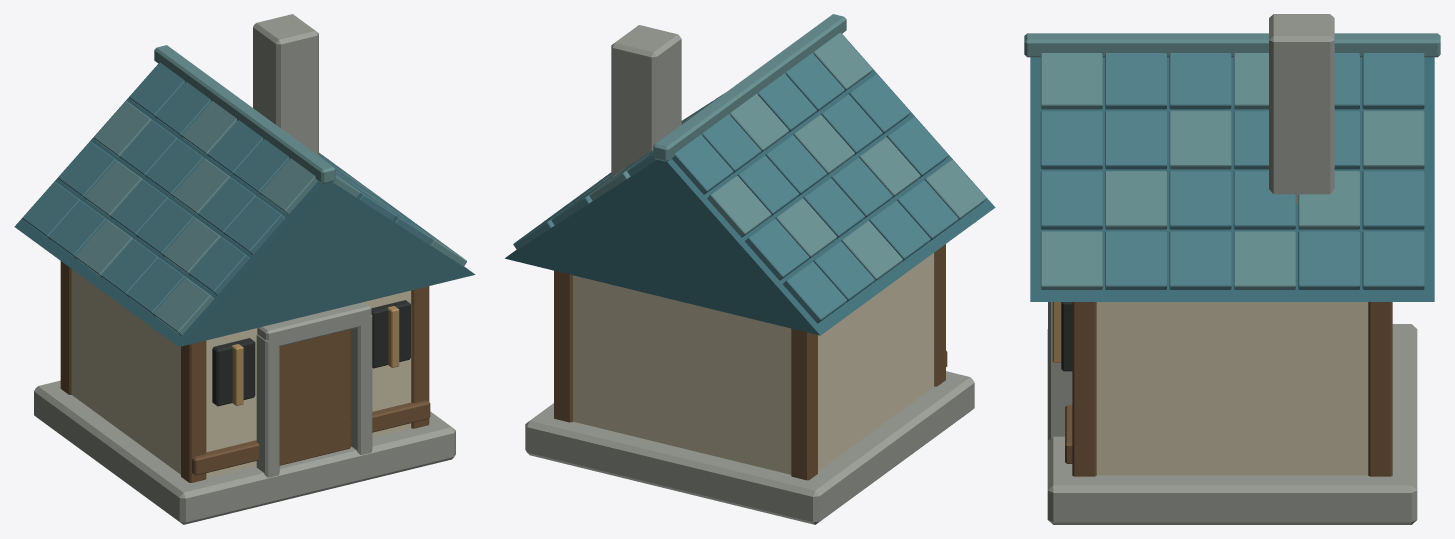
The model's file is house.glb.
The picture shows the model from 3 angles, left to right: view 1: azimuth 30°, elevation 25°; view 2: azimuth 150°, elevation 25°; view 3: azimuth 270°, elevation 25°; orthographic projection. The views are drawn at different scales.
Parts seen in each view (by area): view 1: Solid gabled roof.002, Plaster walls.002, Foundation.002, Door.002, Chimney, Ridge cap.002, Corner timber.008, Door post.004, Door post.005, Front crossbeam.004, Lintel.002, Corner timber.010 (+29 smaller); view 2: Plaster walls.002, Solid gabled roof.002, Foundation.002, Chimney, Ridge cap.002, Corner timber.009, Corner timber.011, Overlapping slate.107, Overlapping slate.113, Overlapping slate.119, Overlapping slate.101, Overlapping slate.105 (+20 smaller); view 3: Plaster walls.002, Foundation.002, Solid gabled roof.002, Chimney, Ridge cap.002, Corner timber.010, Corner timber.011, Overlapping slate.126, Overlapping slate.128, Overlapping slate.131, Overlapping slate.127, Overlapping slate.140 (+22 smaller).
Boxes of the visible parts, <box> form: Solid gabled roof.002: <box>14,64,475,346</box>; Plaster walls.002: <box>72,269,411,477</box>; Foundation.002: <box>34,380,455,524</box>; Door.002: <box>279,329,351,465</box>; Chimney: <box>253,14,318,155</box>; Ridge cap.002: <box>154,45,335,183</box>; Corner timber.008: <box>181,340,206,482</box>; Door post.004: <box>256,334,279,477</box>; Door post.005: <box>351,314,372,454</box>; Front crossbeam.004: <box>192,400,430,475</box>; Lintel.002: <box>257,302,371,346</box>; Corner timber.010: <box>411,286,429,428</box>; Plaster walls.002: <box>573,253,934,474</box>; Solid gabled roof.002: <box>505,34,995,335</box>; Foundation.002: <box>525,371,974,524</box>; Chimney: <box>611,25,681,176</box>; Ridge cap.002: <box>653,14,846,161</box>; Corner timber.009: <box>791,328,817,480</box>; Corner timber.011: <box>554,270,572,422</box>; Overlapping slate.107: <box>707,175,771,237</box>; Overlapping slate.113: <box>745,218,809,280</box>; Overlapping slate.119: <box>783,261,847,323</box>; Overlapping slate.101: <box>672,134,733,194</box>; Overlapping slate.105: <box>765,135,827,196</box>; Plaster walls.002: <box>1096,302,1368,475</box>; Foundation.002: <box>1047,324,1417,524</box>; Solid gabled roof.002: <box>1030,57,1434,301</box>; Chimney: <box>1269,14,1334,204</box>; Ridge cap.002: <box>1024,33,1440,57</box>; Corner timber.010: <box>1072,302,1096,476</box>; Corner timber.011: <box>1368,302,1392,476</box>; Overlapping slate.126: <box>1040,110,1102,169</box>; Overlapping slate.128: <box>1169,110,1231,169</box>; Overlapping slate.131: <box>1362,110,1424,169</box>; Overlapping slate.127: <box>1105,110,1166,169</box>; Overlapping slate.140: <box>1169,231,1231,289</box>.
Size of the model in its own units: 3.65 by 4.4 by 3.6.
